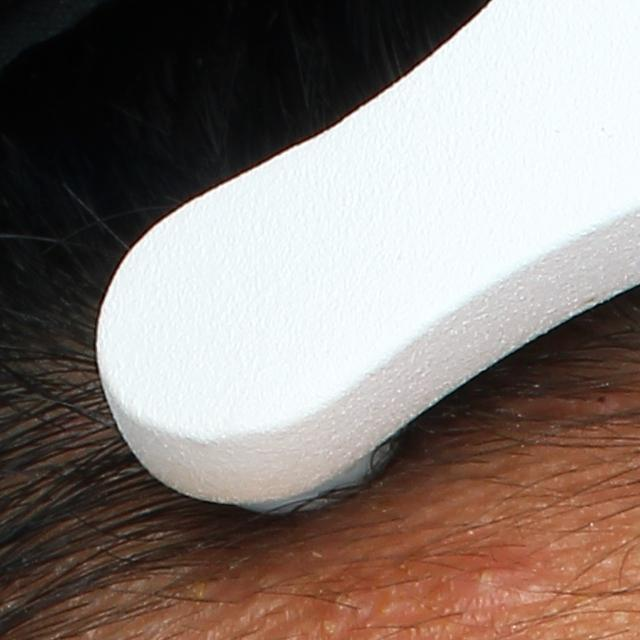comedo: (318, 575, 377, 623)
